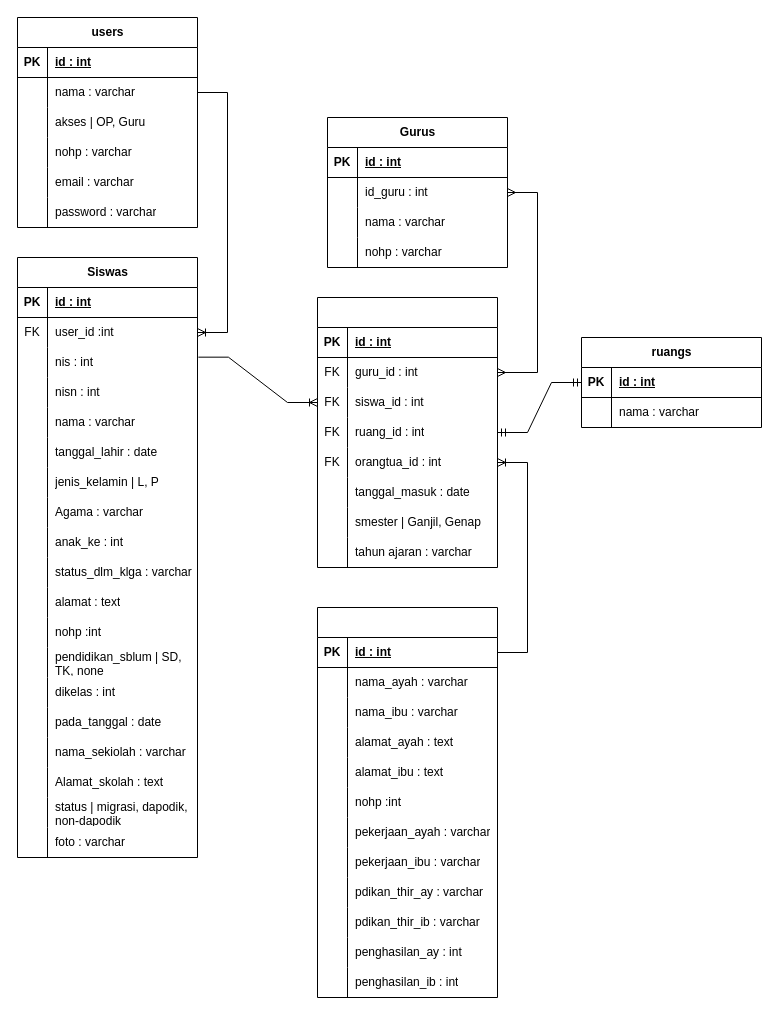
This 779x1015 diagram has some shape labels left out. Here are the shapes that lost their labels. From the top down, the box of each, then its label:
(316, 296, 498, 568): Kelass
(316, 606, 498, 998): orang_tuas
